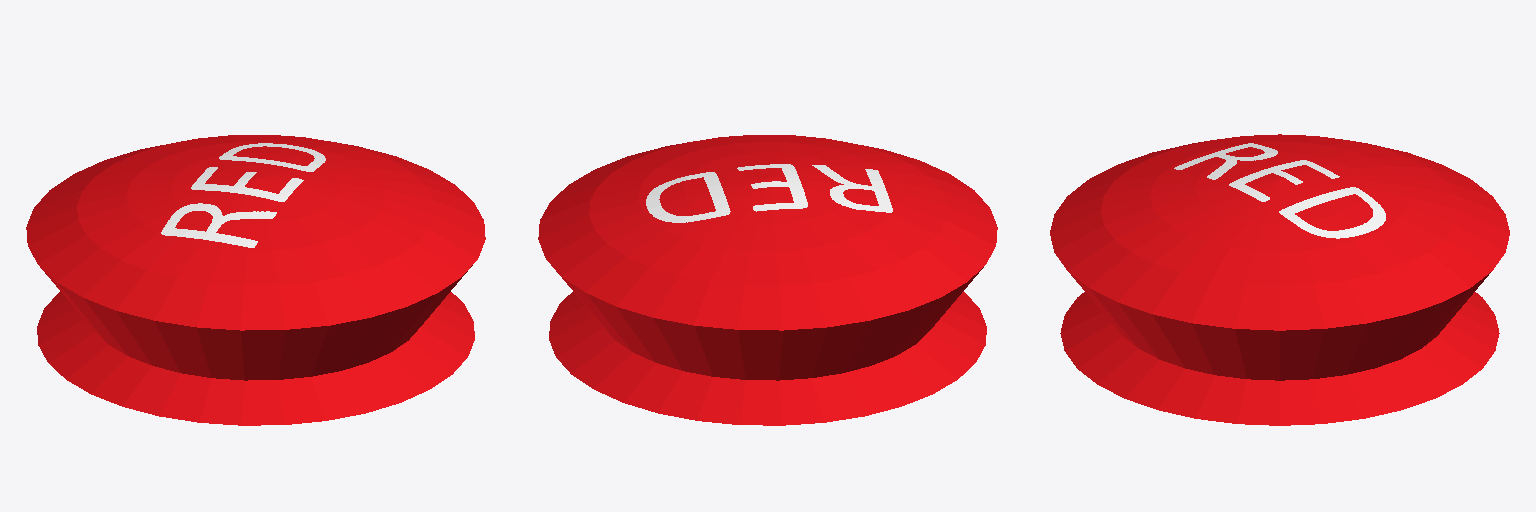
3 views of the same model, side by side, from view 1: azimuth 30°, elevation 25°; view 2: azimuth 150°, elevation 25°; view 3: azimuth 270°, elevation 25° (orthographic).
Parts seen in each view (by area): view 1: Sphere; view 2: Sphere; view 3: Sphere.
Boxes of the visible parts, x1=… form: Sphere: x1=26, y1=135, x2=485, y2=425; Sphere: x1=538, y1=135, x2=997, y2=425; Sphere: x1=1050, y1=134, x2=1509, y2=425.
Size of the model in its own units: 2.06 by 0.7606 by 2.06.
Materials: 1 (1 with a texture image).